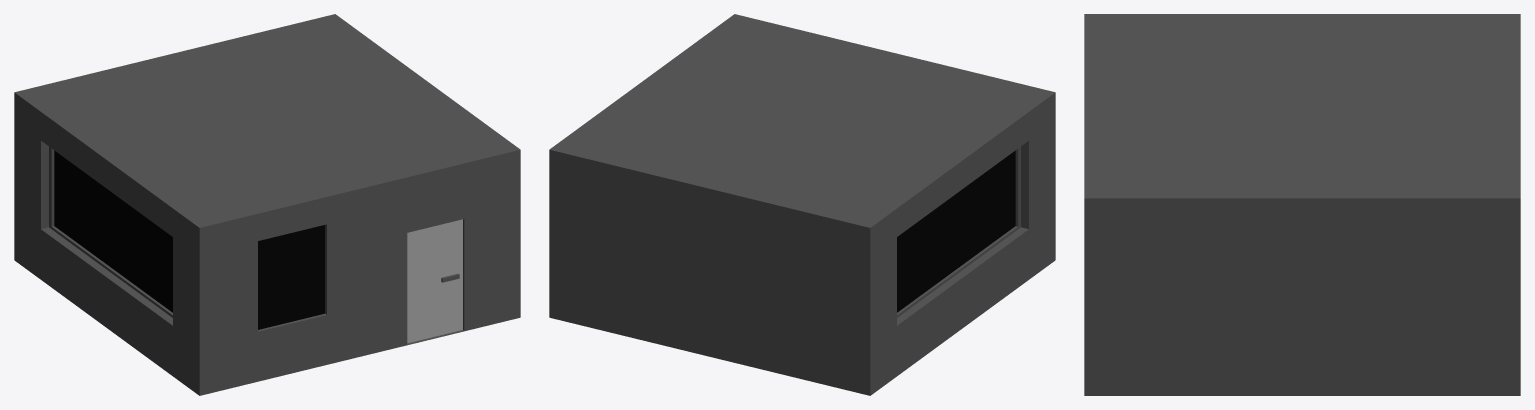
The model's file is immeuble4Bas.fbx.
The picture shows the model from 3 angles, left to right: view 1: azimuth 30°, elevation 25°; view 2: azimuth 150°, elevation 25°; view 3: azimuth 270°, elevation 25°; orthographic projection. The views are drawn at different scales.
Visible parts, largest first — view 1: Cube.226; view 2: Cube.226; view 3: Cube.226.
Boxes of the visible parts, x1,y1,x2,y2 form: Cube.226: (14,14,520,395); Cube.226: (549,14,1055,395); Cube.226: (1084,14,1520,395).
Bounding box in the file's own units: 2000 × 1000 × 2000.
